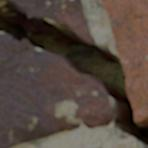brick: (101, 0, 147, 120)
broken_brick: (0, 33, 111, 147), (0, 0, 91, 43)
crack: (0, 1, 147, 147)
